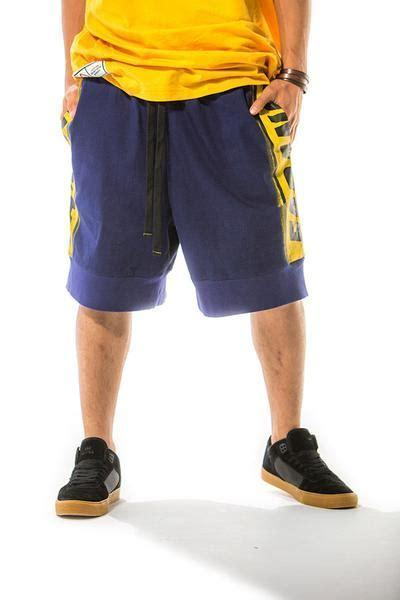short: (68, 67, 310, 317)
